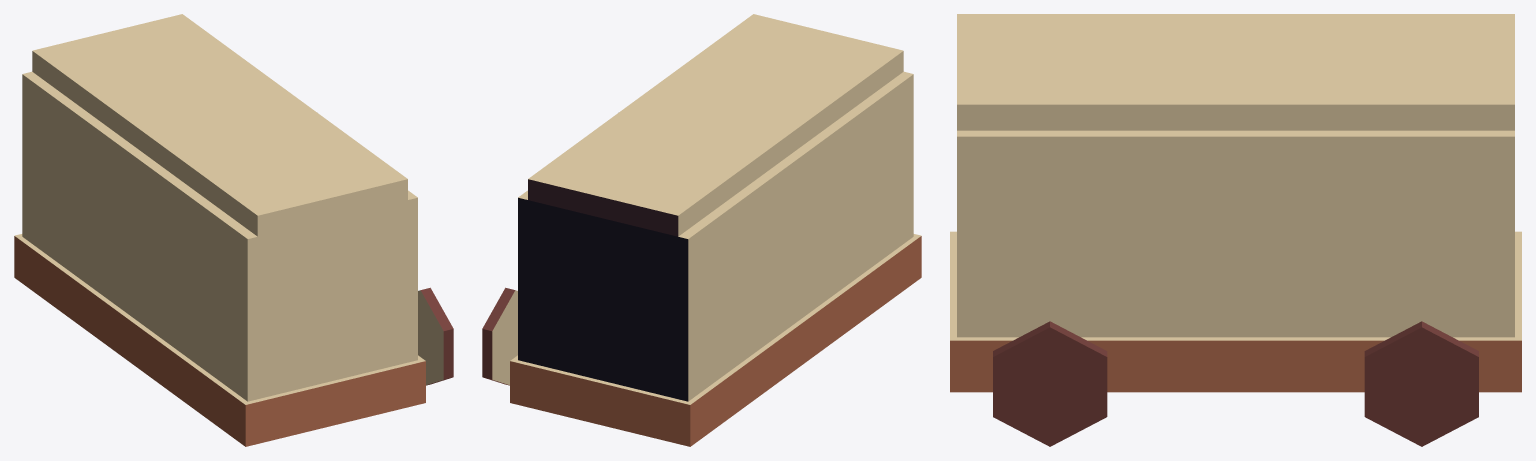
File: Cart.gltf
The picture shows the model from 3 angles, left to right: view 1: azimuth 30°, elevation 25°; view 2: azimuth 150°, elevation 25°; view 3: azimuth 270°, elevation 25°; orthographic projection. The views are drawn at different scales.
Visible parts, largest first — view 1: cylinder; view 2: cylinder; view 3: cylinder.
Part boxes in pixels (<box>): cylinder: <box>14,14,453,446</box>; cylinder: <box>482,14,921,446</box>; cylinder: <box>950,14,1521,446</box>.
Size of the model in its own units: 2.81 by 2.95 by 5.
1 material, 1 textured.
